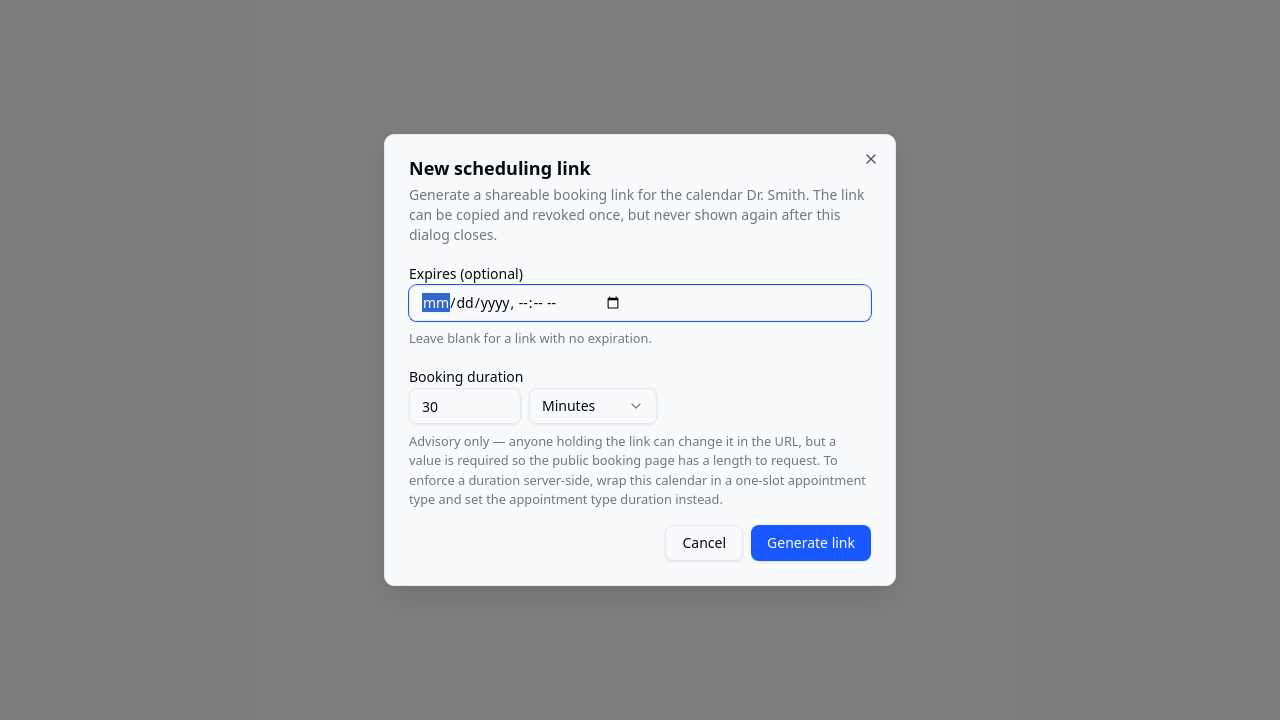
Test: MintBookingLinkDialog › blocks minting a calendar link with a zero duration and issues no mutation
Replace the text in the number field named "Booking duration value" with "0". click: (465, 406)
box: left=409, top=388, right=521, bottom=424
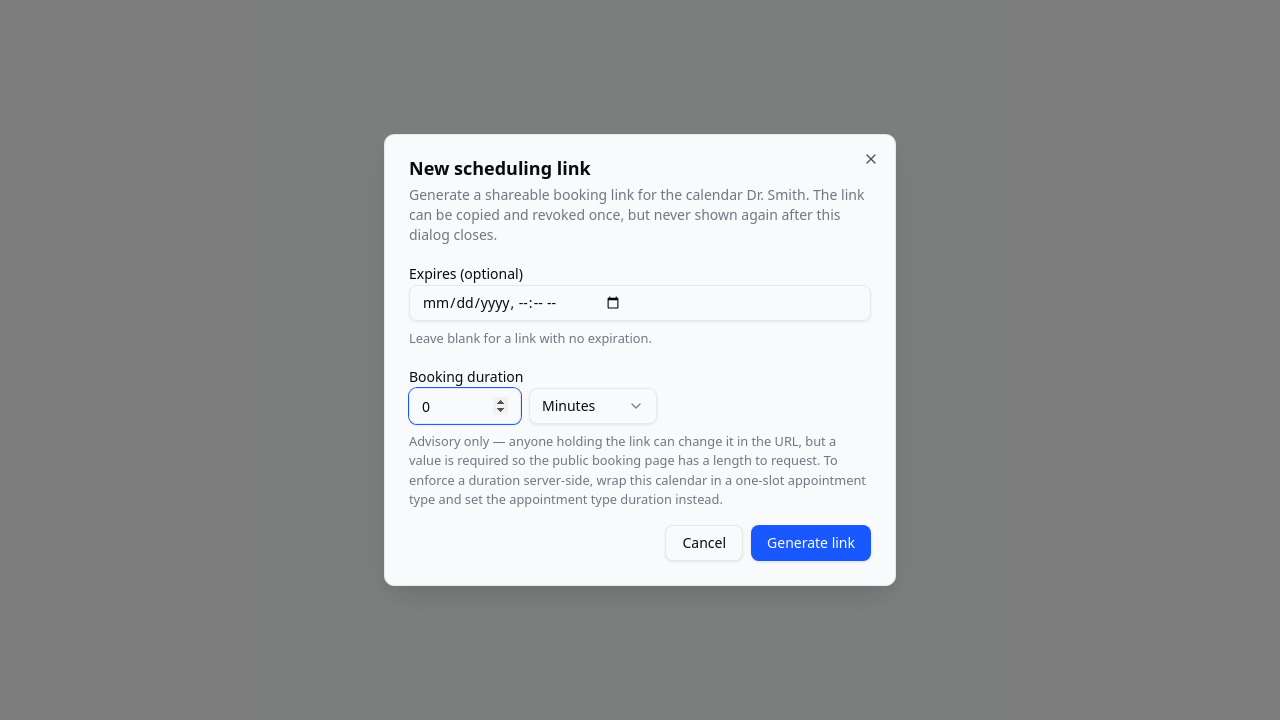
Click the button with test id "create-booking-link-submit". click: (811, 543)
box: left=751, top=525, right=871, bottom=561
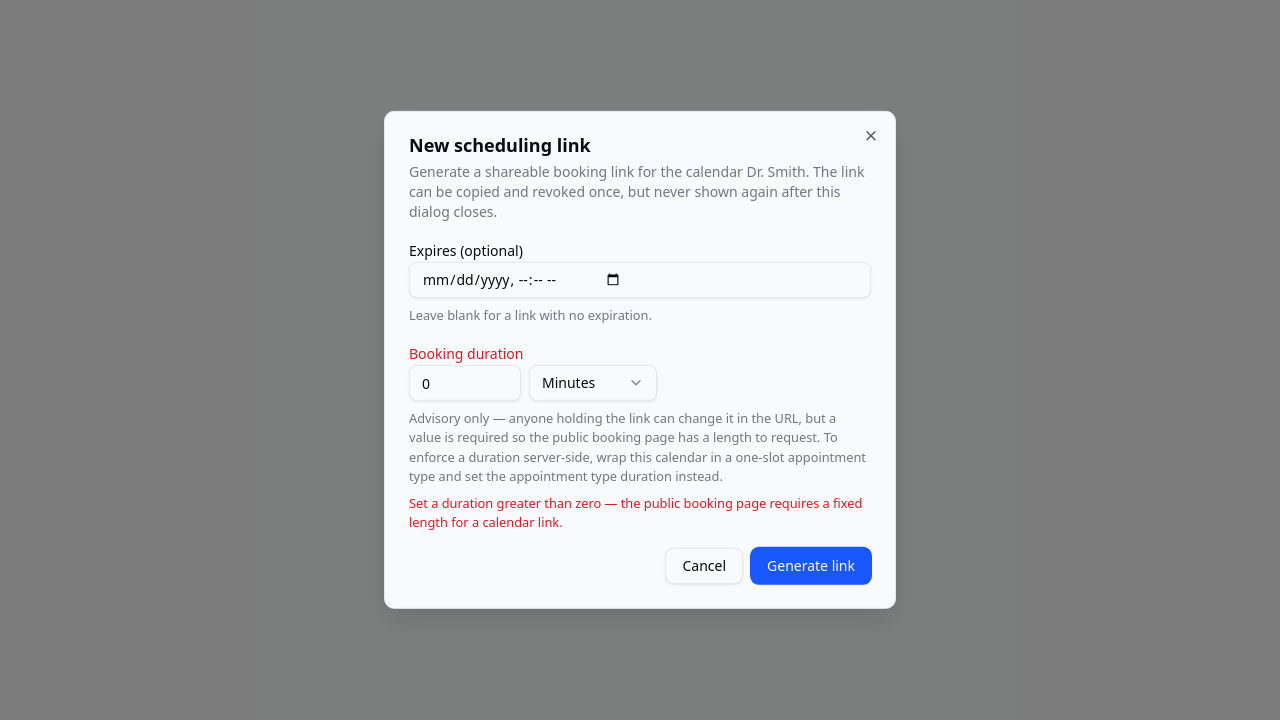
Now the text "duration greater than zero" is shown, box left=409, top=494, right=862, bottom=531
